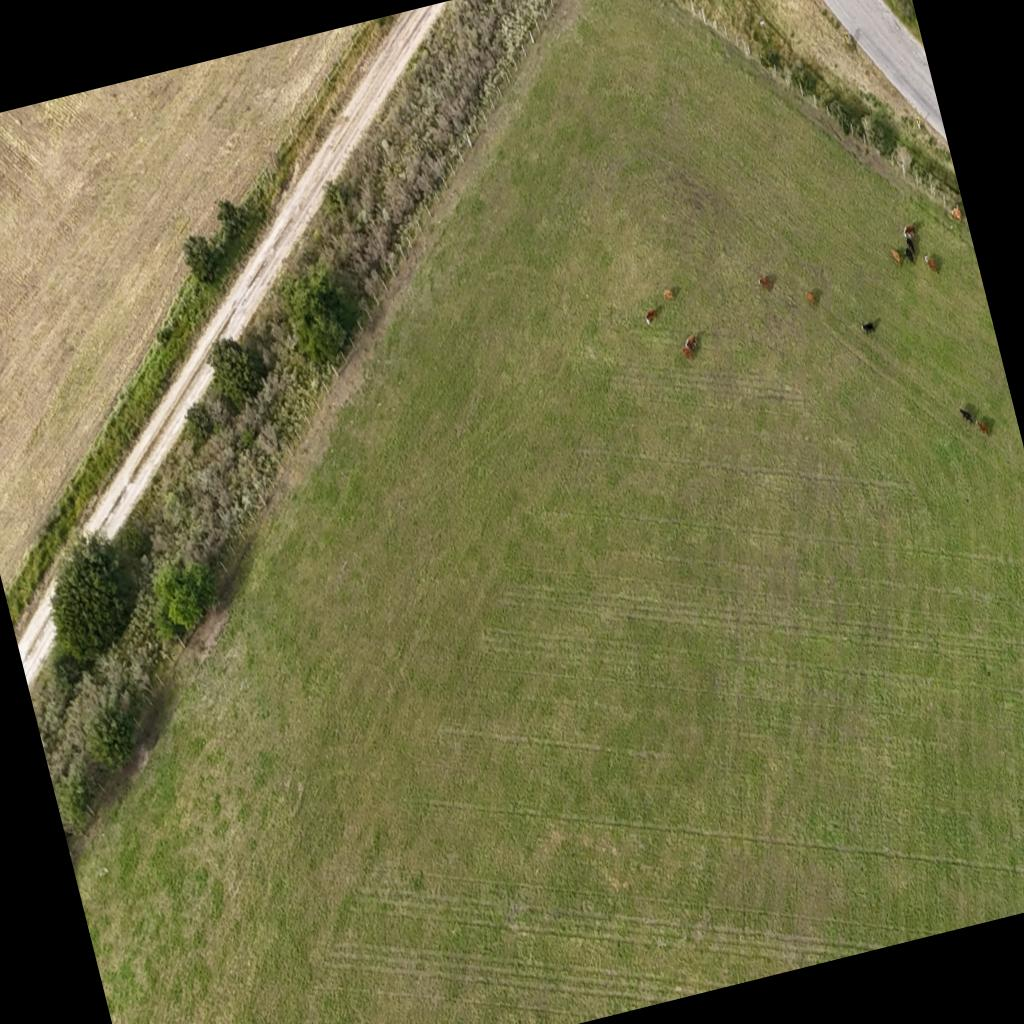cow: (858, 316, 879, 336), (902, 223, 918, 243), (959, 408, 975, 428), (682, 333, 698, 352), (644, 307, 660, 326), (805, 289, 820, 308), (975, 418, 989, 437), (924, 254, 938, 273), (904, 236, 917, 256), (680, 344, 694, 362), (949, 204, 963, 222), (890, 247, 902, 266), (758, 274, 772, 290), (902, 247, 915, 264), (662, 286, 674, 300)
